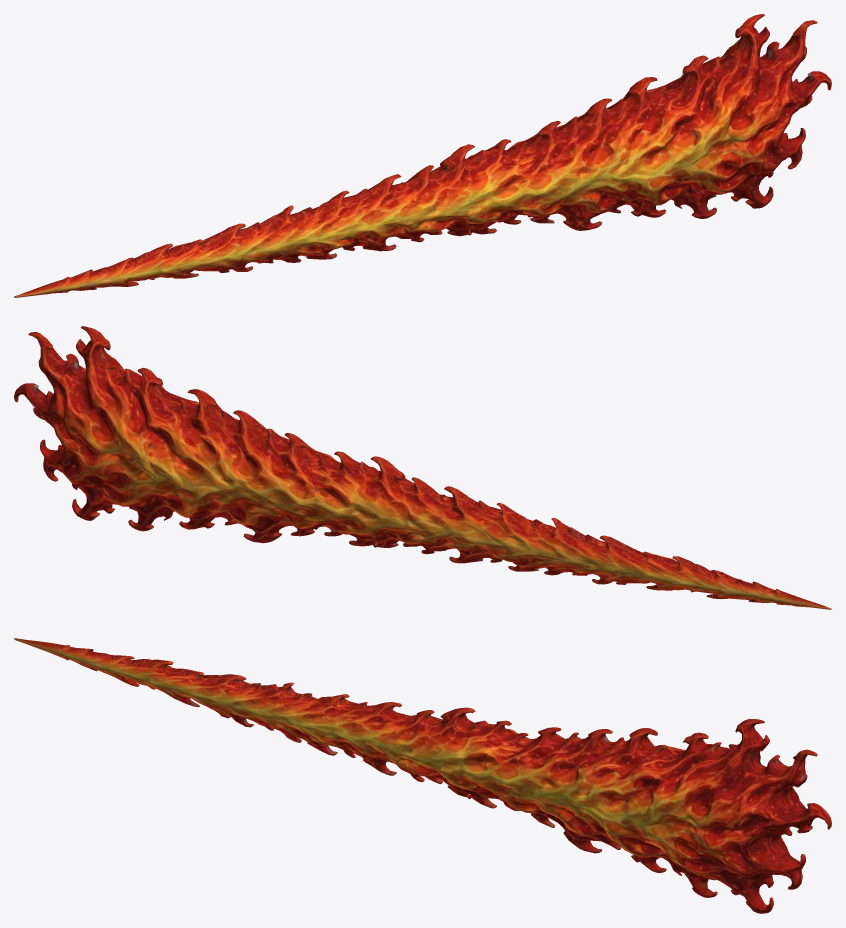
Rendered from dragon_fire_full.glb.
3 renders of one model, top to bottom at view 1: azimuth 30°, elevation 25°; view 2: azimuth 150°, elevation 25°; view 3: azimuth 330°, elevation 25°, orthographic.
Bounding box in the file's own units: 1.9 × 0.4292 × 0.2105.
1 material, 1 textured.
